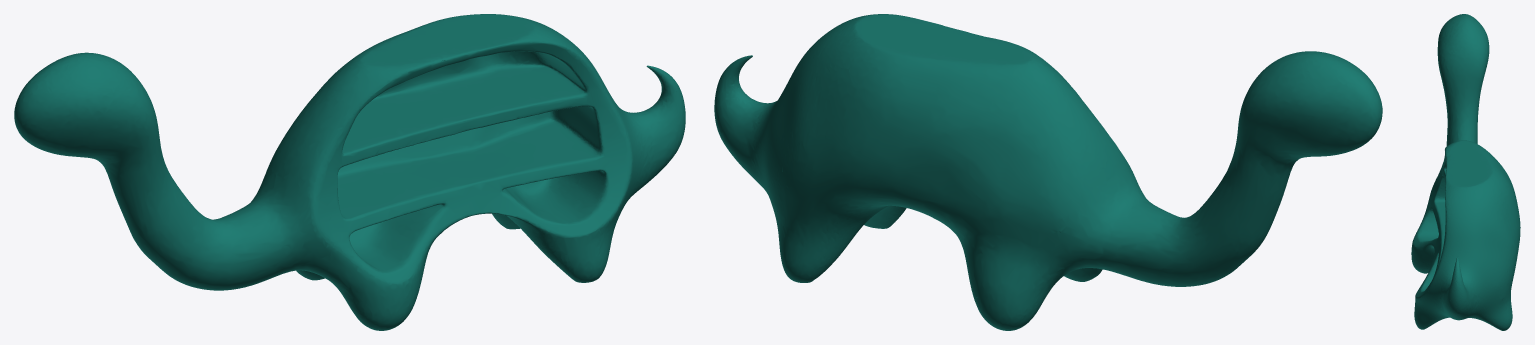
File: Nessie - Kenia Burgos.glb
3 views of the same model, side by side, from view 1: azimuth 30°, elevation 25°; view 2: azimuth 150°, elevation 25°; view 3: azimuth 270°, elevation 25° (orthographic). The views are drawn at different scales.
Parts seen in each view (by area): view 1: mesh_0; view 2: mesh_0; view 3: mesh_0.
Boxes of the visible parts, x1,y1,x2,y2 form: mesh_0: (14, 14, 685, 330); mesh_0: (714, 14, 1382, 330); mesh_0: (1411, 14, 1520, 330).
Bounding box in the file's own units: 1 × 0.4533 × 0.2509.
